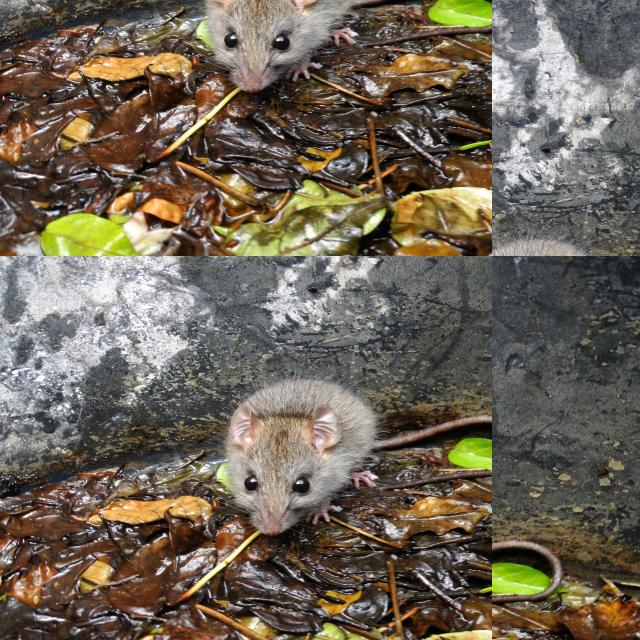rat: (225, 377, 493, 533), (201, 3, 360, 91)
